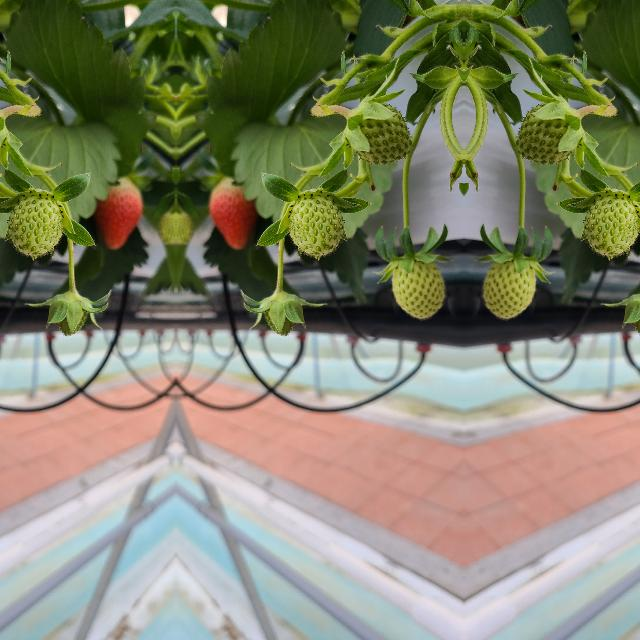Health_25: (288, 193, 342, 255), (8, 193, 62, 255), (584, 193, 638, 255)
